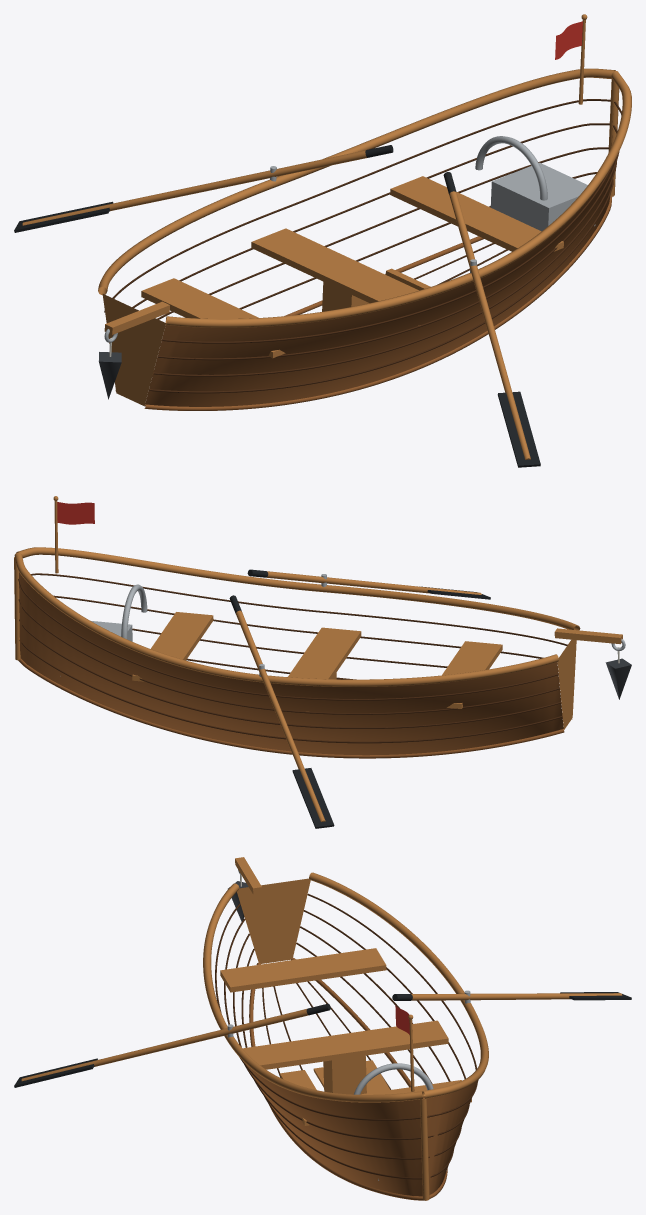
The model's file is drift-boat.glb.
3 views of the same model, one above another, from view 1: azimuth 30°, elevation 25°; view 2: azimuth 150°, elevation 25°; view 3: azimuth 270°, elevation 25° (orthographic). The views are drawn at different scales.
Visible parts, largest first — view 1: hull_shell, gunwale_stbd, gunwale_port, rower_seat, oar_shaft (×2), front_seat, dry_box, transom, rear_seat, oar_blade (×2), chine_stbd, plank_seam_3p (+12 smaller); view 2: hull_shell, gunwale_port, gunwale_stbd, oar_shaft (×2), rower_seat, chine_port, front_seat, rear_seat, plank_seam_3p, plank_seam_0p, plank_seam_1p, plank_seam_2p (+10 smaller); view 3: hull_shell, rower_seat, transom, rear_seat, gunwale_stbd, oar_shaft (×2), gunwale_port, rower_pedestal, chine_stbd, stem_cap, plank_seam_3s, plank_seam_3p (+8 smaller).
Part boxes in pixels (x1,y1,x2,y2): hull_shell: (145,106,616,406); gunwale_stbd: (165,71,631,327); gunwale_port: (98,68,615,295); rower_seat: (251,228,420,325); oar_shaft (×2): (22,150,530,459); front_seat: (390,176,563,251); dry_box: (490,162,595,231); transom: (102,294,165,406); rear_seat: (141,278,285,358); oar_blade (×2): (14,201,540,467); chine_stbd: (144,195,611,410); plank_seam_3p: (104,99,610,312); hull_shell: (19,572,563,755); gunwale_port: (14,552,558,686); gunwale_stbd: (16,547,580,630); oar_shaft (×2): (236,571,481,821); rower_seat: (288,627,361,711); chine_port: (18,659,564,758); front_seat: (132,612,213,681); rear_seat: (442,641,502,708); plank_seam_3p: (18,579,558,700); plank_seam_0p: (19,640,562,743); plank_seam_1p: (19,619,561,728); plank_seam_2p: (18,599,559,714); hull_shell: (245,1063,478,1196); rower_seat: (242,1020,448,1069); transom: (237,878,310,963); rear_seat: (220,948,386,992); gunwale_stbd: (203,883,423,1102); oar_shaft (×2): (21,993,622,1081); gunwale_port: (309,872,488,1098); rower_pedestal: (323,1055,366,1094); chine_stbd: (249,962,425,1200); stem_cap: (420,1096,429,1200); plank_seam_3s: (215,903,420,1120); plank_seam_3p: (307,893,477,1117).
Bounding box in the file's own units: 5.36 × 1.96 × 5.28.
